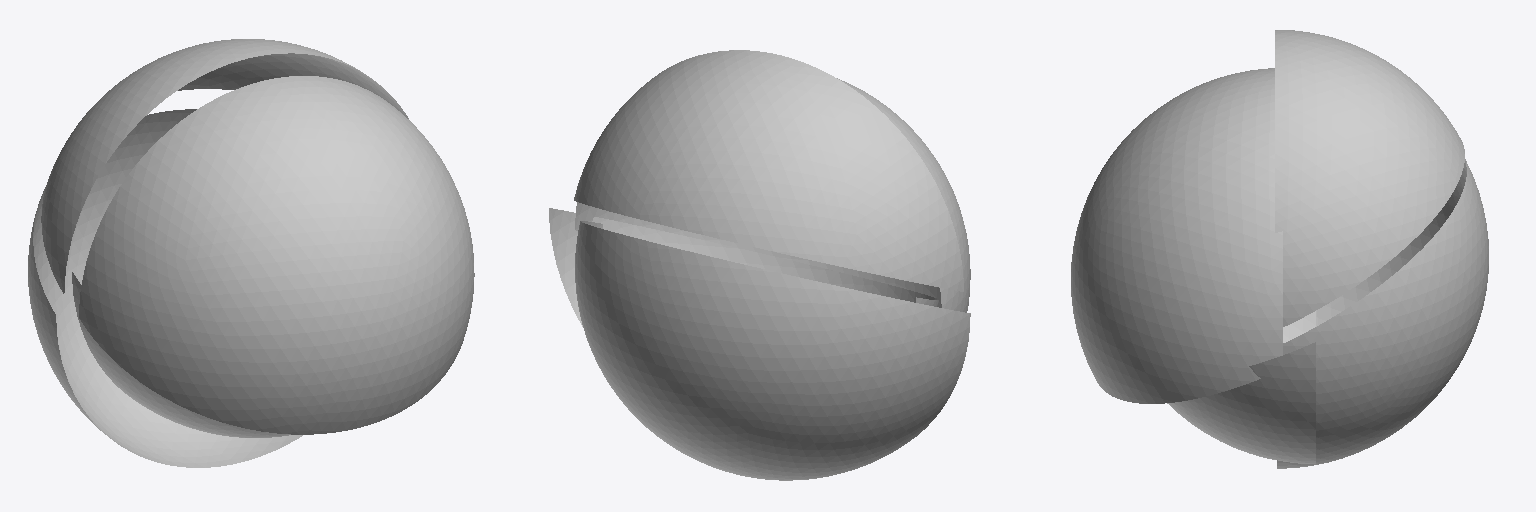
File: polysphere_soup010.obj
3 views of the same model, side by side, from view 1: azimuth 30°, elevation 25°; view 2: azimuth 150°, elevation 25°; view 3: azimuth 270°, elevation 25° (orthographic).
Bounding box in the file's own units: 2.19 × 2.1 × 1.97.